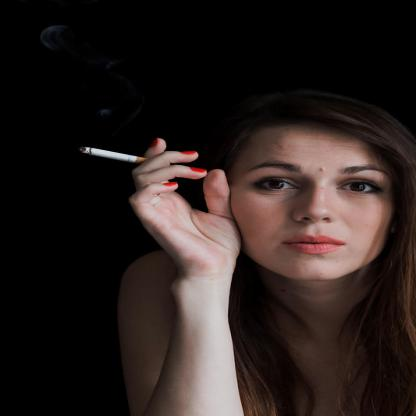smoking: (80, 146, 163, 167)
